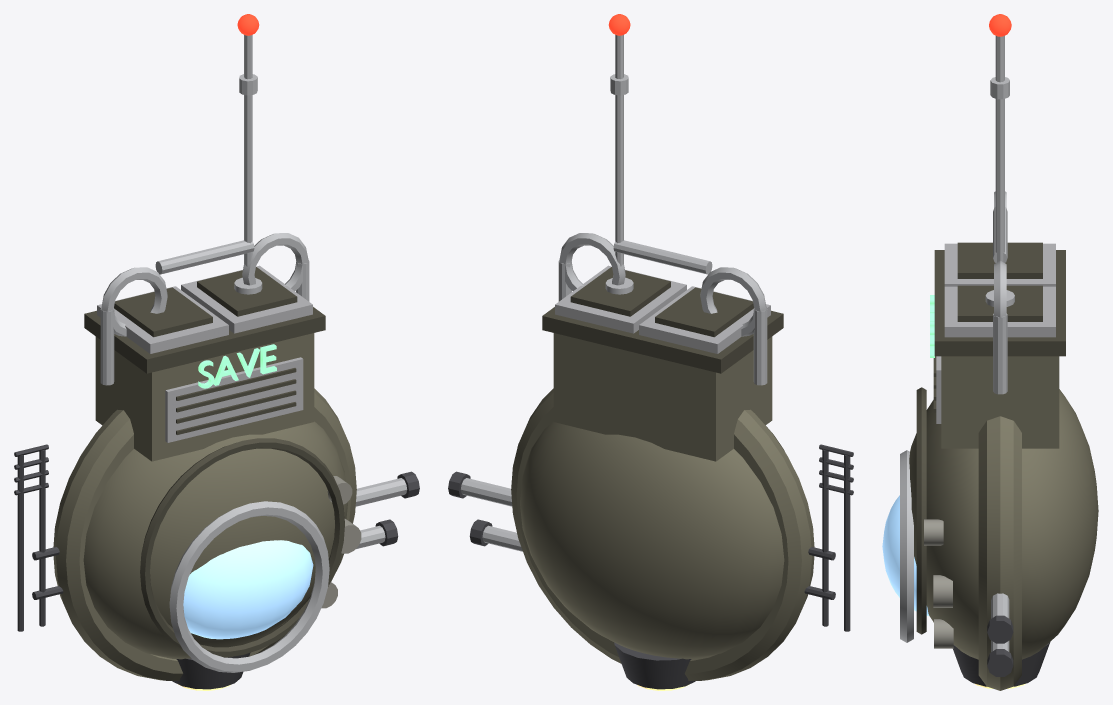
Rendered from save_pod.glb.
3 renders of one model, left to right at view 1: azimuth 30°, elevation 25°; view 2: azimuth 150°, elevation 25°; view 3: azimuth 270°, elevation 25°, orthographic. The views are drawn at different scales.
Visible parts, largest first — view 1: Body, HatchHousing, Rim, Dome, DomeFrame, Seam, HatchBars, Hatch_L, Hatch_R, ForkAntenna, Antenna, SidePipes (+3 smaller); view 2: Body, HatchHousing, Rim, HatchBars, Hatch_L, Hatch_R, ForkAntenna, Antenna, SidePipes, Nozzle; view 3: Body, HatchHousing, Rim, Hatch_R, Hatch_L, Antenna, Seam, DomeFrame, HatchBars, SidePipes, Buttons, Dome (+2 smaller).
Part boxes in pixels (x1=…): Body: x1=83, y1=421, x2=347, y2=659; HatchHousing: x1=84, y1=307, x2=325, y2=461; Rim: x1=53, y1=388, x2=356, y2=680; Dome: x1=183, y1=540, x2=313, y2=639; DomeFrame: x1=169, y1=501, x2=329, y2=672; Seam: x1=140, y1=438, x2=344, y2=657; HatchBars: x1=100, y1=233, x2=309, y2=385; Hatch_L: x1=97, y1=286, x2=228, y2=353; Hatch_R: x1=181, y1=265, x2=312, y2=333; ForkAntenna: x1=14, y1=444, x2=63, y2=631; Antenna: x1=234, y1=35, x2=262, y2=294; SidePipes: x1=355, y1=471, x2=419, y2=548; Body: x1=520, y1=421, x2=784, y2=659; HatchHousing: x1=542, y1=307, x2=783, y2=461; Rim: x1=511, y1=388, x2=814, y2=680; HatchBars: x1=558, y1=233, x2=767, y2=385; Hatch_L: x1=639, y1=286, x2=770, y2=353; Hatch_R: x1=555, y1=265, x2=686, y2=333; ForkAntenna: x1=804, y1=444, x2=853, y2=631; Antenna: x1=605, y1=35, x2=633, y2=294; SidePipes: x1=448, y1=471, x2=522, y2=551; Nozzle: x1=614, y1=642, x2=695, y2=689; Body: x1=909, y1=389, x2=1098, y2=659; HatchHousing: x1=933, y1=250, x2=1065, y2=448; Rim: x1=978, y1=416, x2=1021, y2=690; Hatch_R: x1=944, y1=285, x2=1055, y2=337; Hatch_L: x1=944, y1=242, x2=1055, y2=286; Antenna: x1=985, y1=35, x2=1014, y2=306; Seam: x1=916, y1=387, x2=926, y2=634; DomeFrame: x1=900, y1=450, x2=913, y2=642; HatchBars: x1=993, y1=191, x2=1007, y2=394; SidePipes: x1=987, y1=593, x2=1013, y2=676; Buttons: x1=924, y1=519, x2=953, y2=648; Dome: x1=882, y1=495, x2=929, y2=615.
Size of the model in its own units: 1.47 by 2.3 by 0.66.
